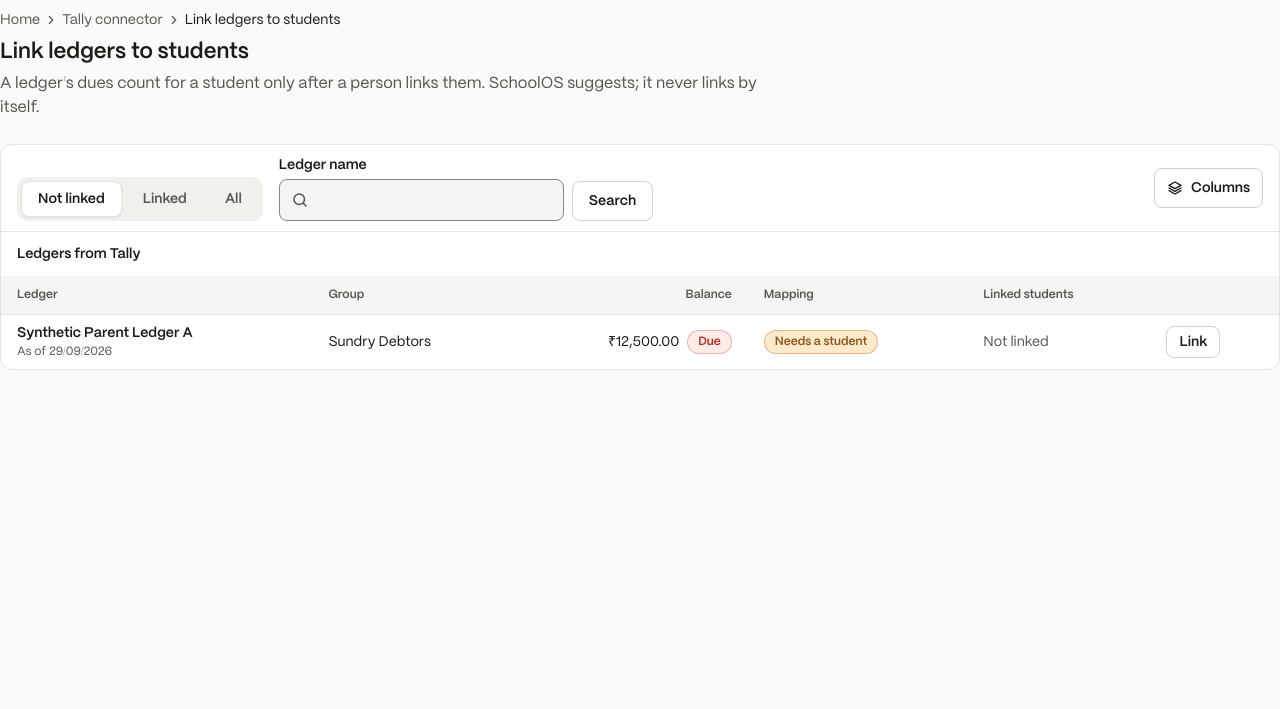
ledger links (US-1803, FR-TALLY-006) › explains a ledger that left Tally since the last sync
Click the button "Link": (1193,342) [1166, 326, 1220, 358]
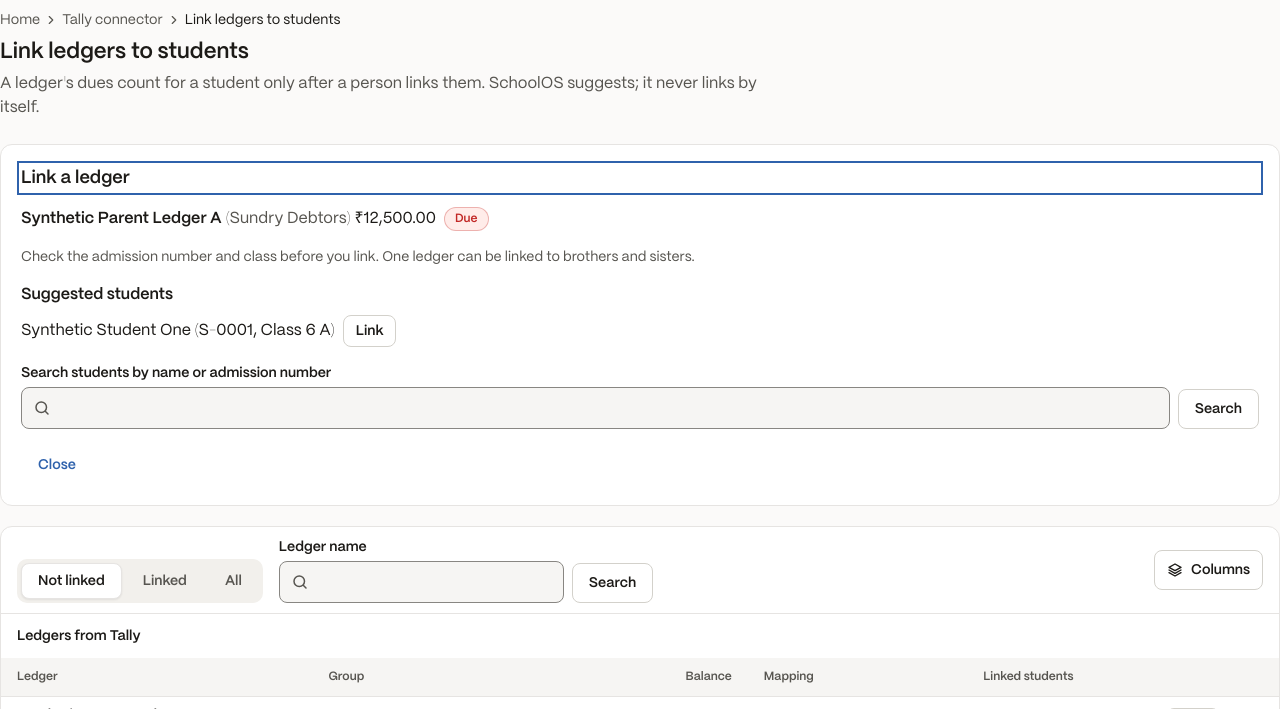
Click the button with aria-label "Link to Synthetic Student One": (370,331) [343, 315, 396, 347]
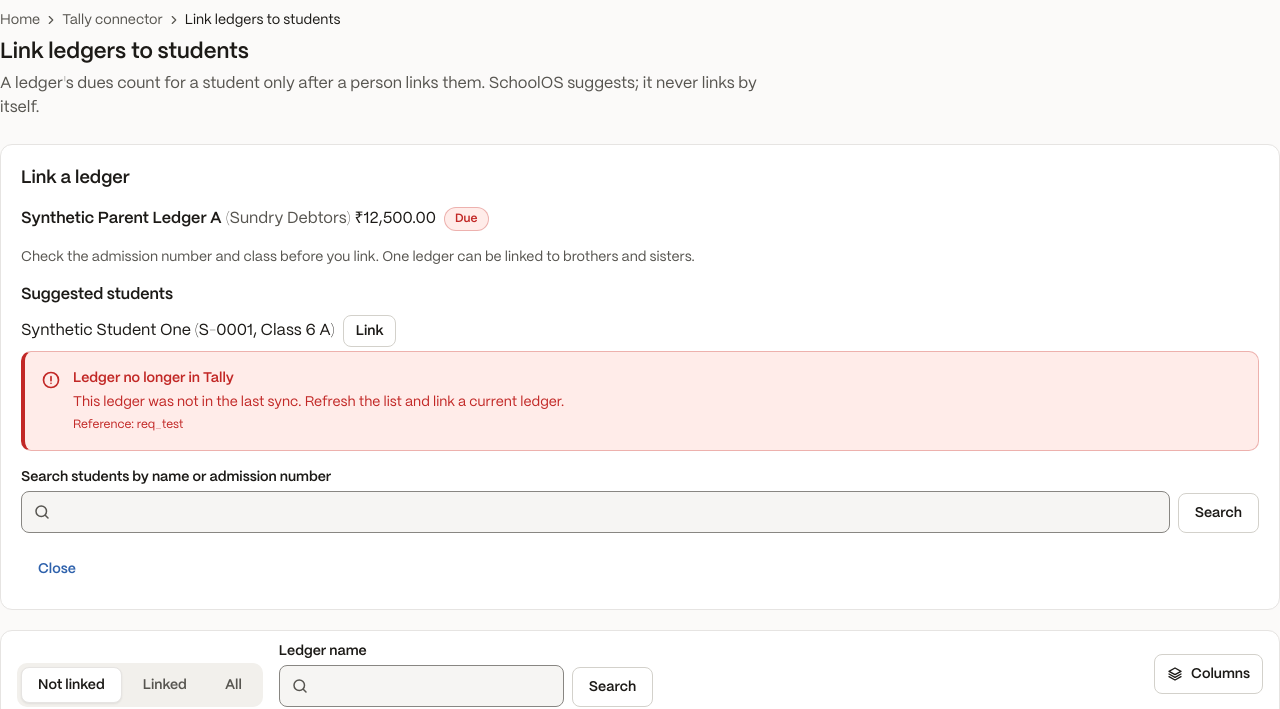
Check: the text "Ledger no longer in Tally" is shown, box [73, 371, 234, 385]
